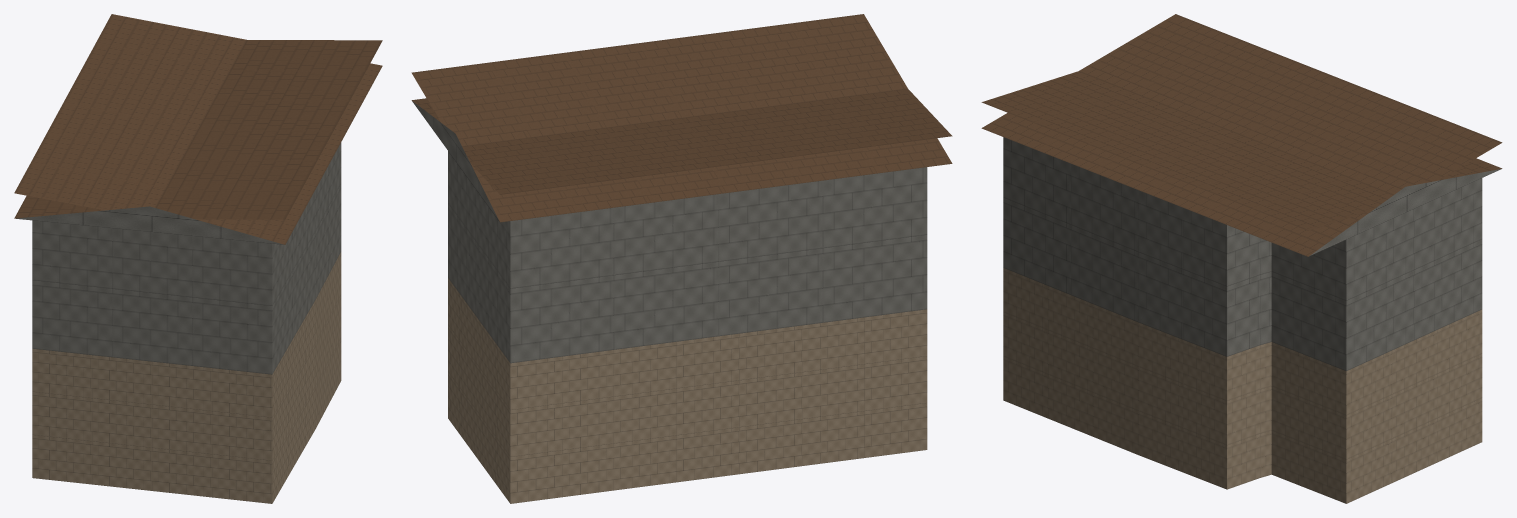
File: bld_c9_28_406.gltf
3 renders of one model, left to right at view 1: azimuth 30°, elevation 25°; view 2: azimuth 150°, elevation 25°; view 3: azimuth 270°, elevation 25°, orthographic. The views are drawn at different scales.
Visible parts, largest first — view 1: bld_c9_28_406; view 2: bld_c9_28_406; view 3: bld_c9_28_406.
Boxes of the visible parts, bbox=[...] form: bld_c9_28_406: bbox=[14, 14, 382, 503]; bld_c9_28_406: bbox=[411, 14, 952, 503]; bld_c9_28_406: bbox=[981, 14, 1502, 503].
Size of the model in its own units: 17.87 by 11.5 by 18.16.
Materials: 4 (4 with a texture image).
